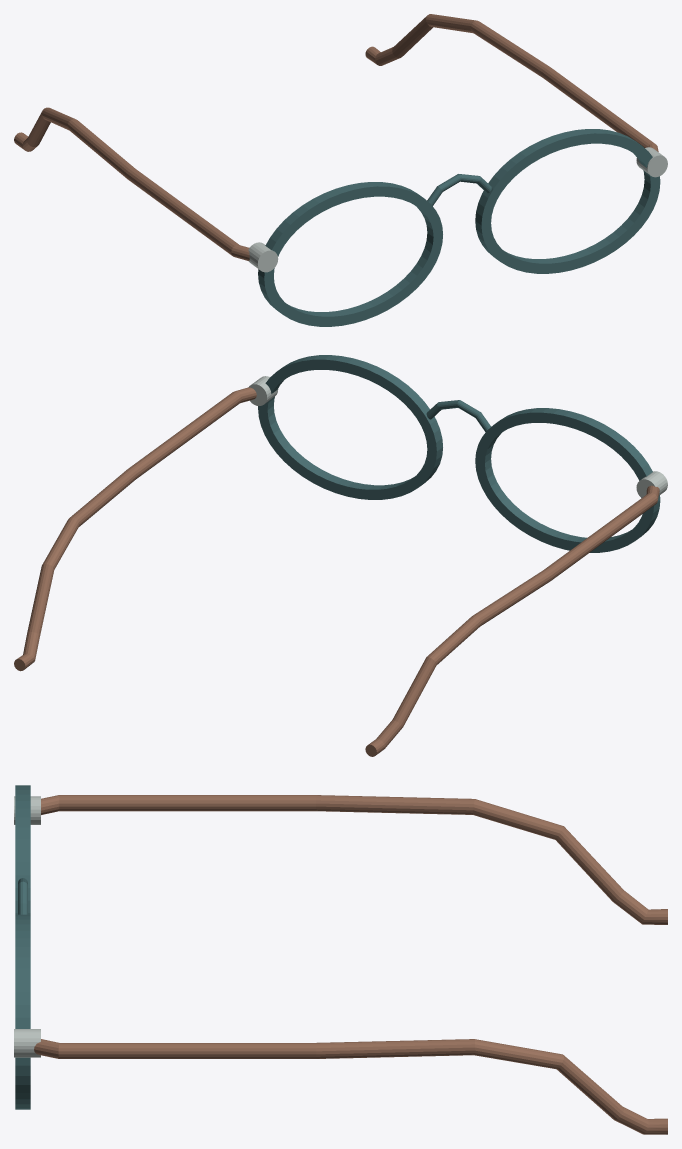
3 renders of one model, top to bottom at view 1: azimuth 30°, elevation 25°; view 2: azimuth 150°, elevation 25°; view 3: azimuth 270°, elevation 25°, orthographic. The views are drawn at different scales.
Visible parts, largest first — view 1: WholeRightEmptyOvalRim, WholeLeftEmptyOvalRim, WholeRightLongReturnedEarTemple, WholeLeftLongReturnedEarTemple, WholeLeftHingeBoss, WholeRaisedConnectingNoseBridge, WholeRightHingeBoss; view 2: WholeRightEmptyOvalRim, WholeLeftEmptyOvalRim, WholeLeftLongReturnedEarTemple, WholeRightLongReturnedEarTemple, WholeRaisedConnectingNoseBridge; view 3: WholeLeftLongReturnedEarTemple, WholeRightLongReturnedEarTemple, WholeRightEmptyOvalRim, WholeLeftEmptyOvalRim, WholeRightHingeBoss.
Boxes of the visible parts, left/top/right/bottom form: WholeRightEmptyOvalRim: left=475, top=129, right=660, bottom=273; WholeLeftEmptyOvalRim: left=258, top=182, right=442, bottom=326; WholeRightLongReturnedEarTemple: left=365, top=14, right=658, bottom=151; WholeLeftLongReturnedEarTemple: left=14, top=107, right=249, bottom=260; WholeLeftHingeBoss: left=248, top=242, right=278, bottom=272; WholeRaisedConnectingNoseBridge: left=427, top=174, right=491, bottom=205; WholeRightHingeBoss: left=636, top=147, right=667, bottom=177; WholeRightEmptyOvalRim: left=258, top=355, right=442, bottom=499; WholeLeftEmptyOvalRim: left=475, top=408, right=660, bottom=552; WholeLeftLongReturnedEarTemple: left=365, top=485, right=659, bottom=756; WholeRightLongReturnedEarTemple: left=14, top=387, right=256, bottom=671; WholeRaisedConnectingNoseBridge: left=426, top=400, right=491, bottom=432; WholeLeftLongReturnedEarTemple: left=41, top=795, right=667, bottom=924; WholeRightLongReturnedEarTemple: left=34, top=1039, right=667, bottom=1134; WholeRightEmptyOvalRim: left=15, top=914, right=30, bottom=1109; WholeLeftEmptyOvalRim: left=15, top=785, right=30, bottom=914; WholeRightHingeBoss: left=14, top=1029, right=40, bottom=1057.
Size of the model in its own units: 0.1336 by 0.04 by 0.145.
